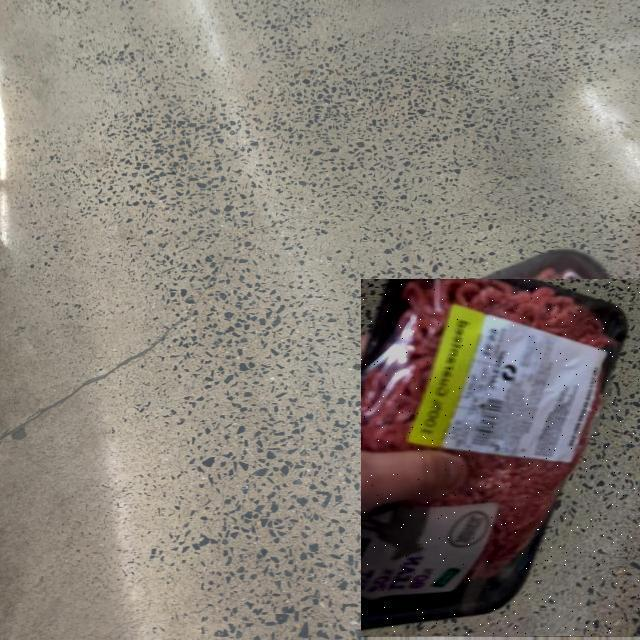Meat: (361, 280, 640, 640)
